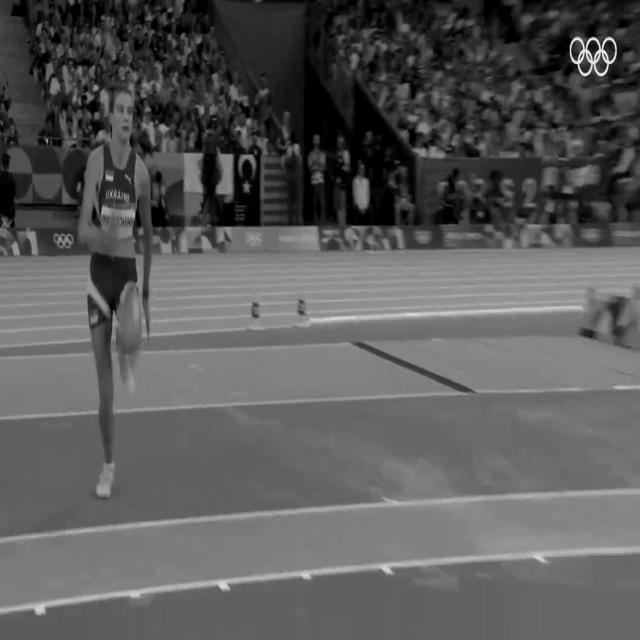run: (81, 85, 158, 502)
